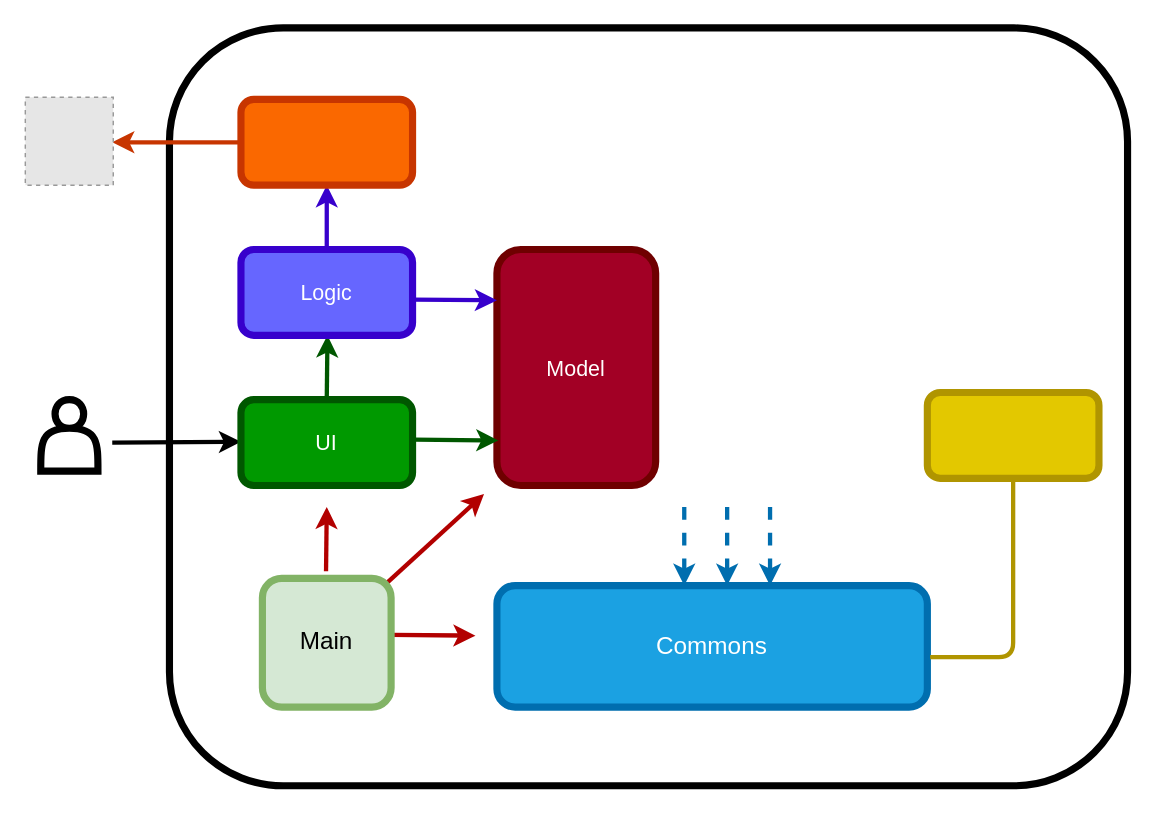
Image size: 1155x814. Some labels were removed from this diagram. Grey dashed boxes stand in for pictures. The centre of each missing label's shape, as x and y in pixels:
Log Center: the point at 1012,434
Storage: the point at 326,141
